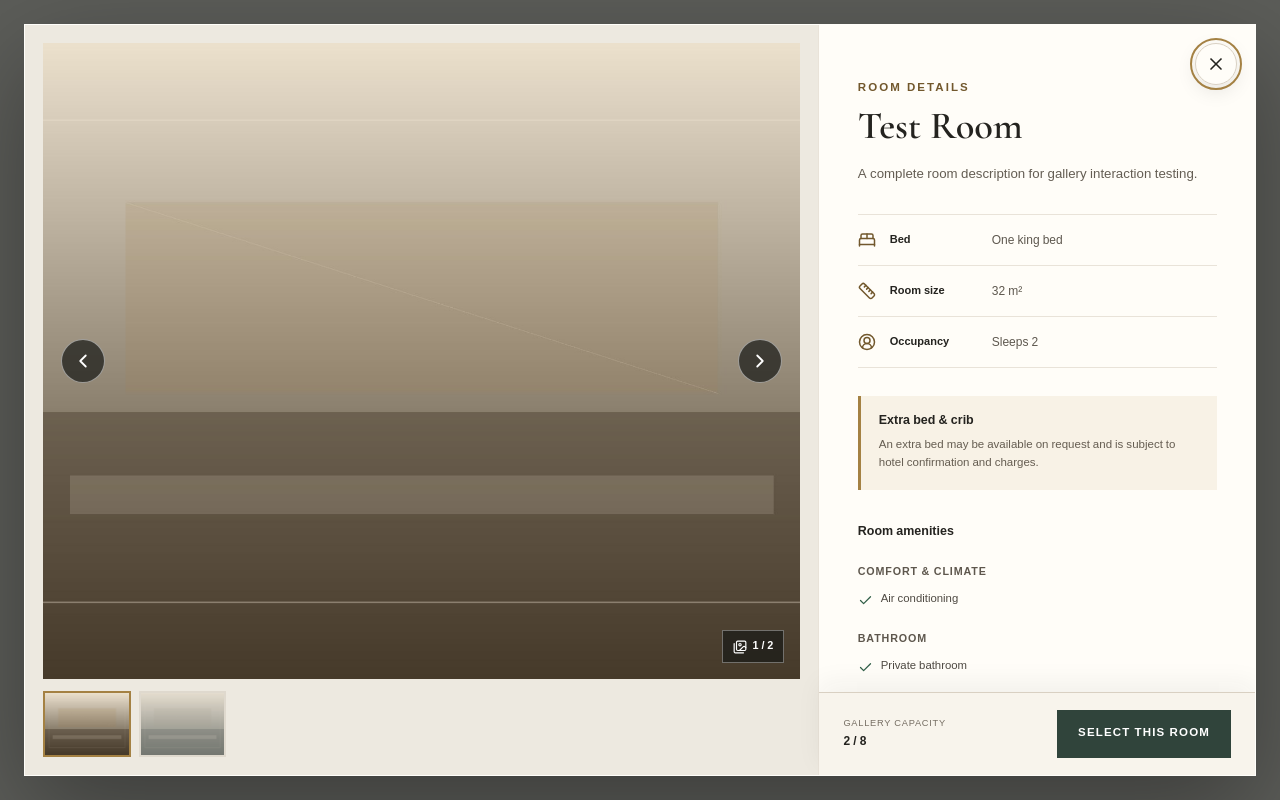
Test: RoomDetailsDialog › groups amenities and moves through the gallery
This screenshot has width=1280, height=800.
Expected: the picture with alt text "Test Room — room photo 1" is shown, [43,43,800,679]
Click the button named "Next photo".
click(760, 361)  # box [738,339,782,383]
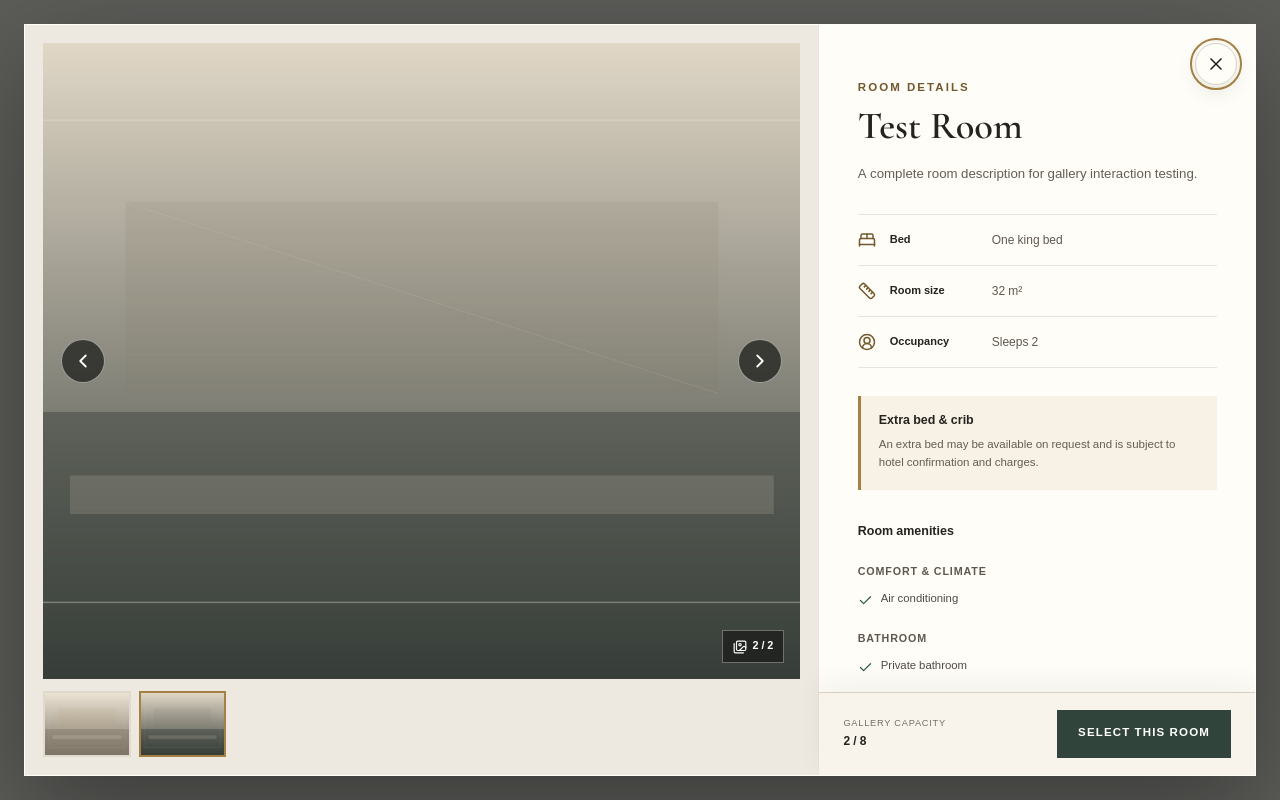
Expected: the picture with alt text "Test Room — room photo 2" is shown, [43,43,800,679]
Expected: the text "2 / 2" is shown, [722,630,784,663]
